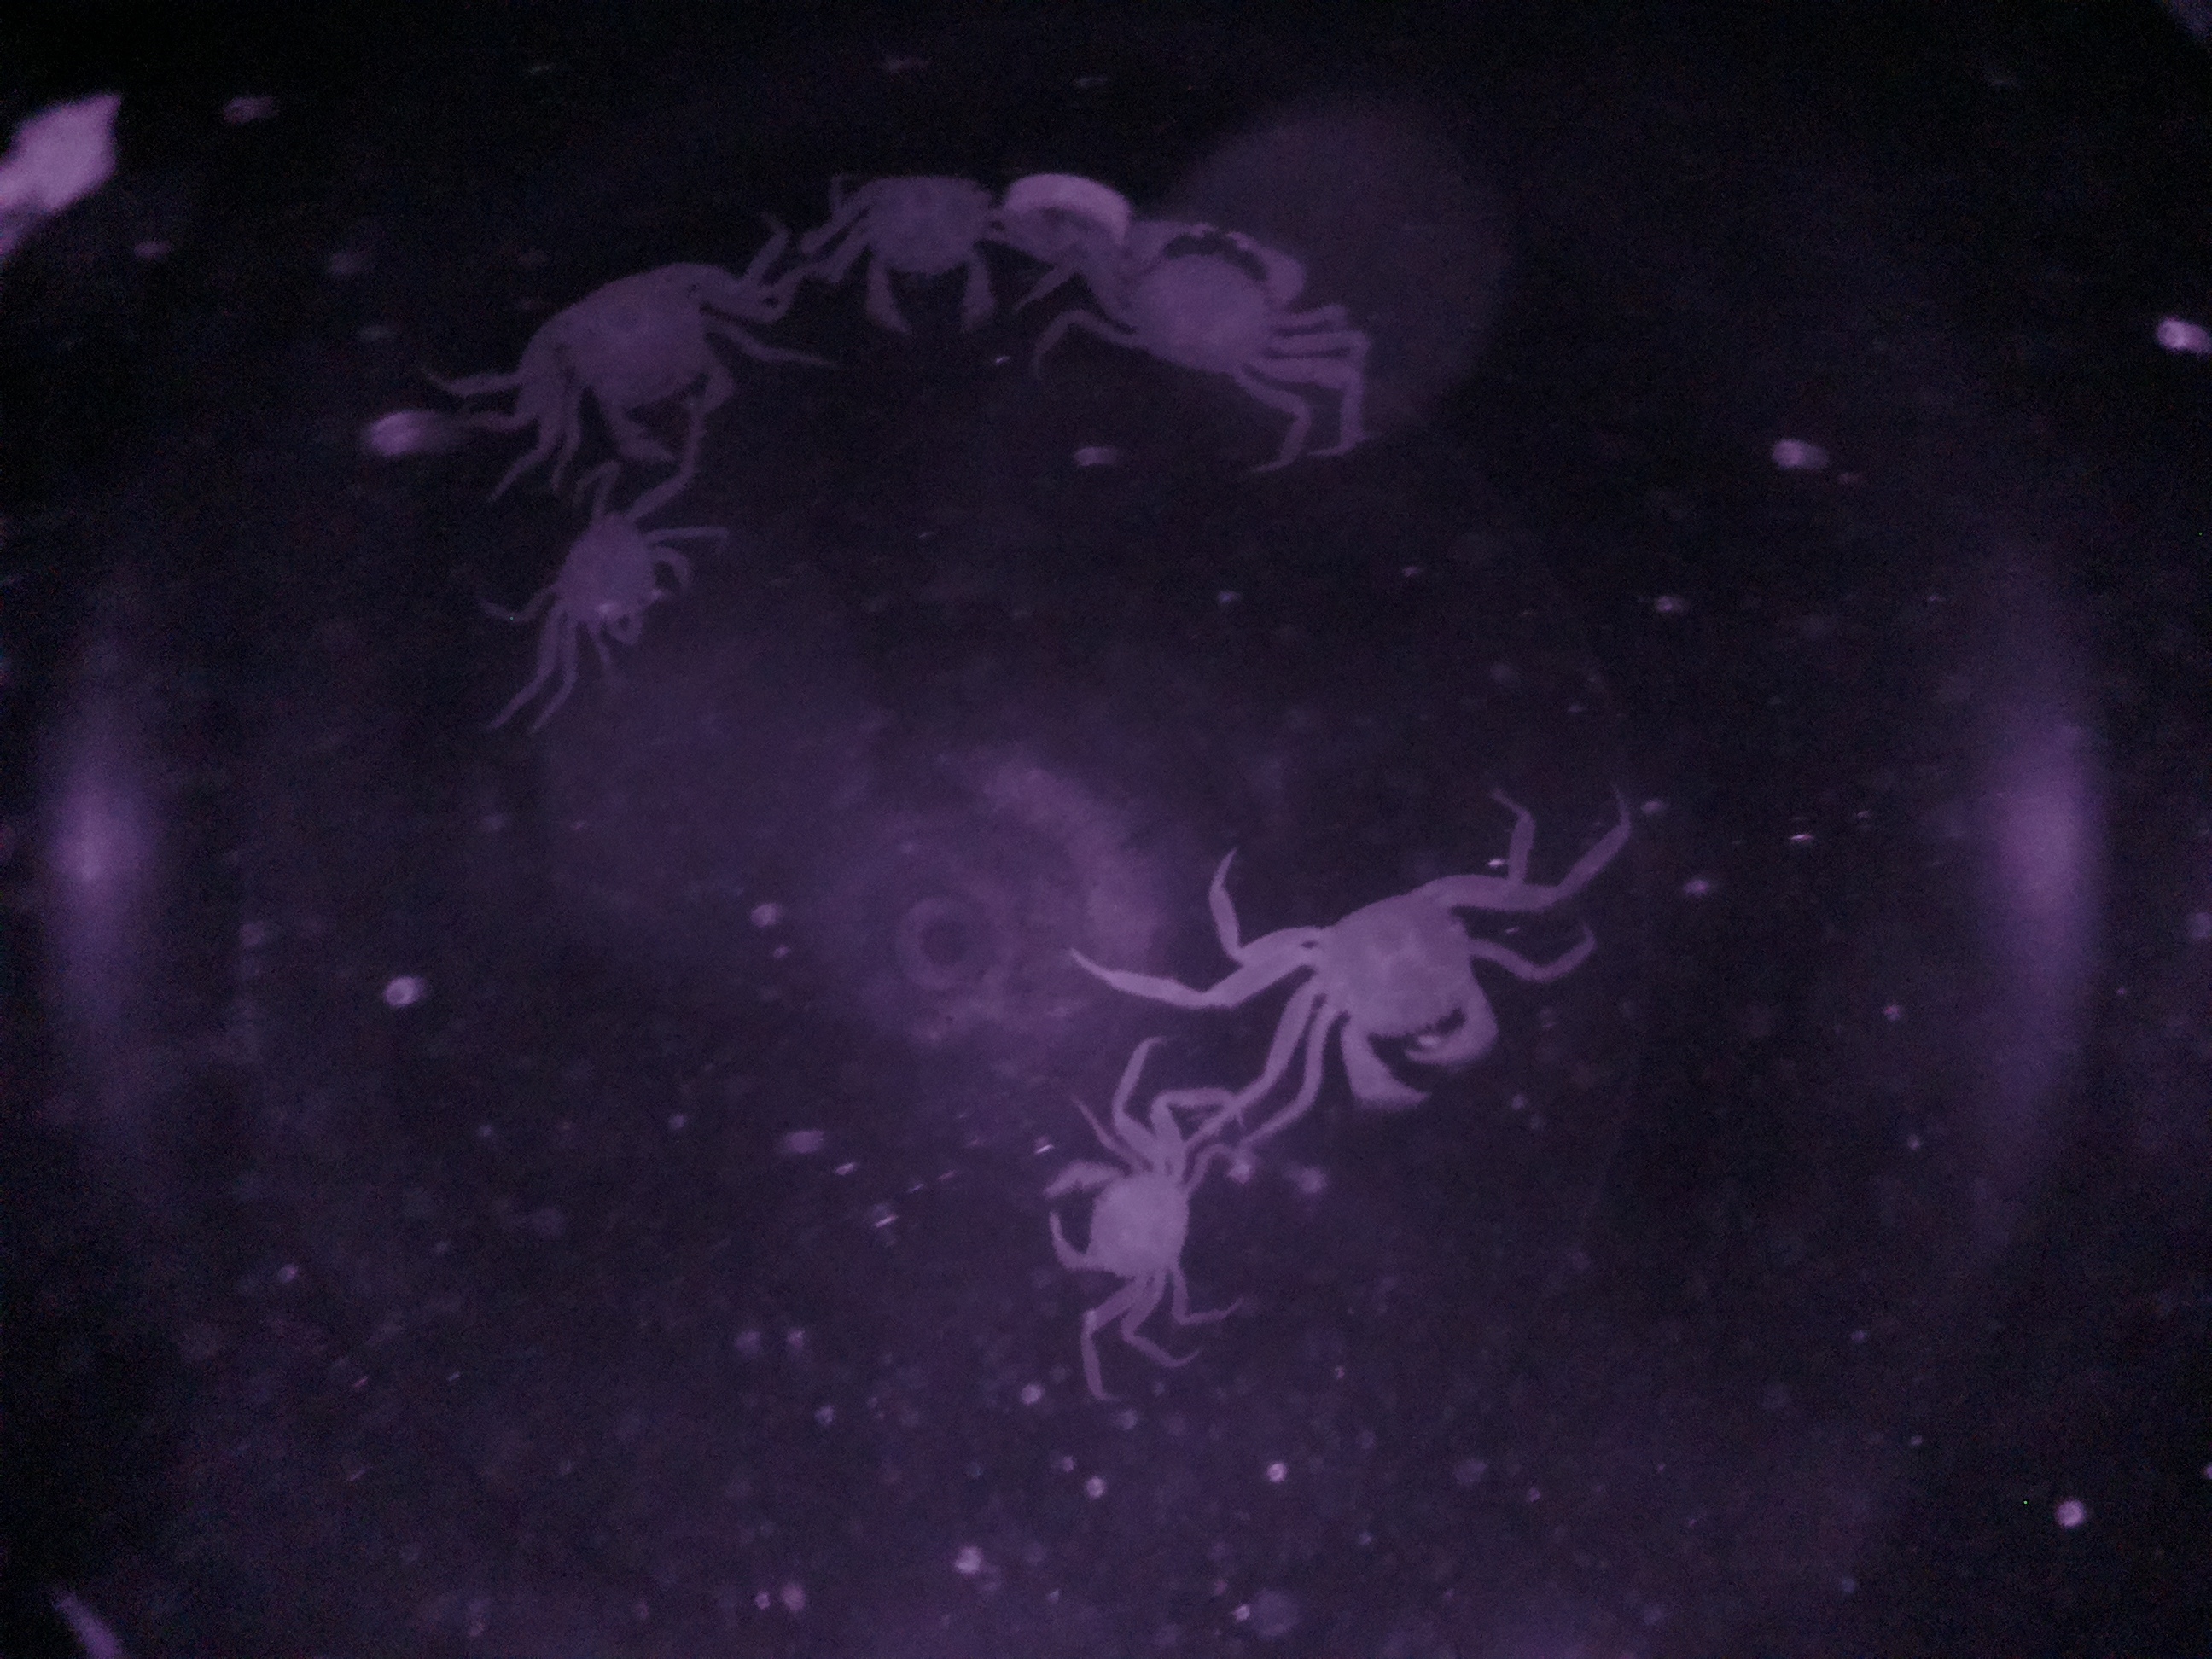Crab: (1231, 854, 1515, 1131), (516, 239, 773, 481), (1059, 206, 1324, 437), (1021, 1112, 1209, 1319), (831, 139, 1019, 343), (512, 467, 678, 680)
